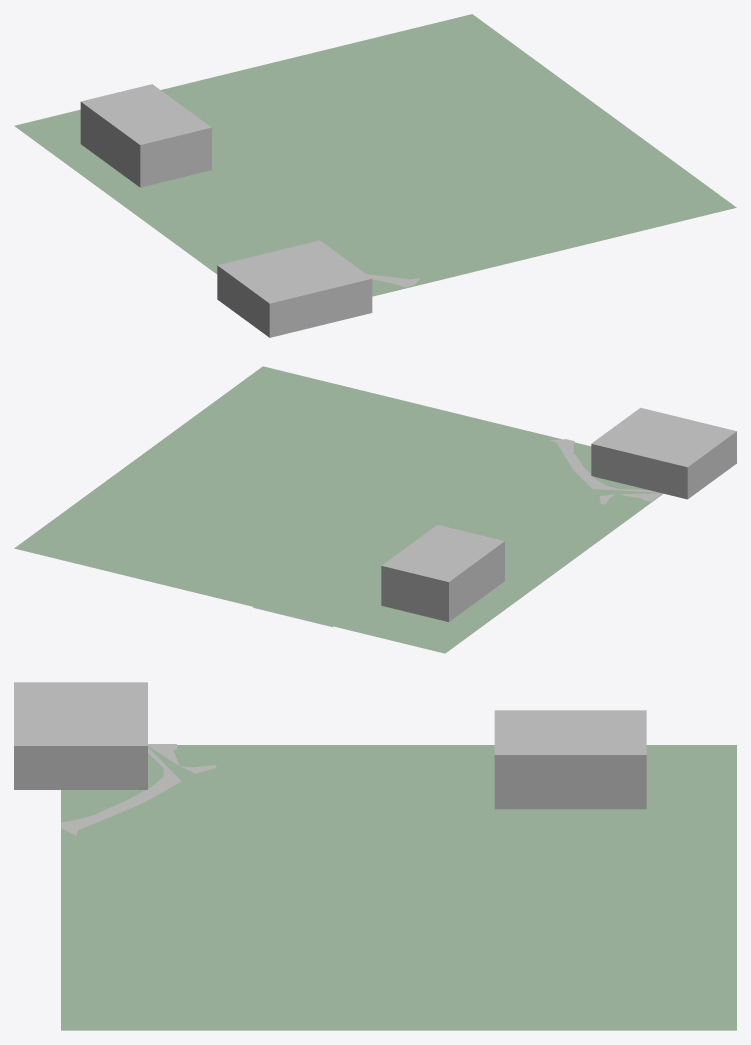
Rendered from 131_83_mid.glb.
3 views of the same model, one above another, from view 1: azimuth 30°, elevation 25°; view 2: azimuth 150°, elevation 25°; view 3: azimuth 270°, elevation 25° (orthographic). The views are drawn at different scales.
Size of the model in its own units: 530 by 45.4 by 535.
